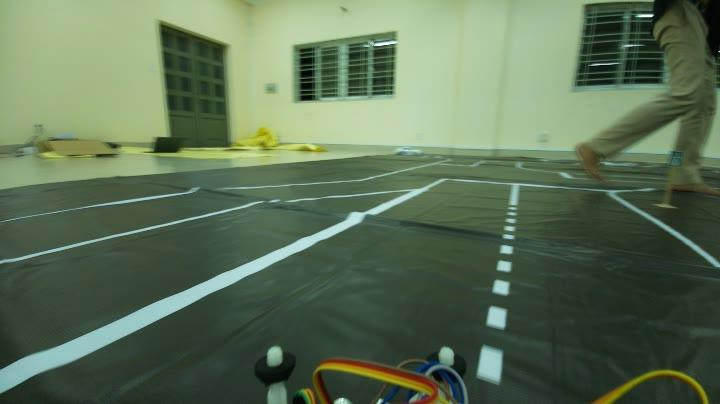highway_entry: (668, 145, 684, 172)
